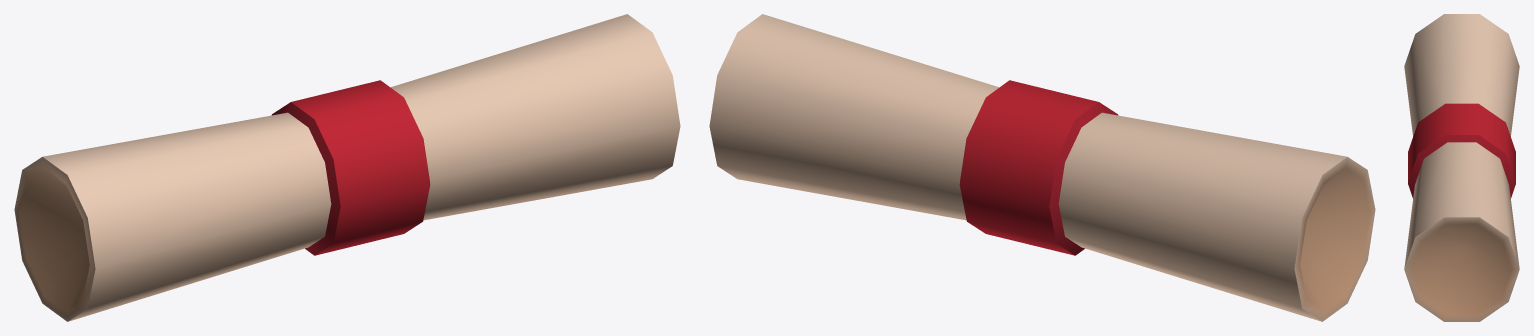
Rendered from PaperScroll2.fbx.
3 renders of one model, left to right at view 1: azimuth 30°, elevation 25°; view 2: azimuth 150°, elevation 25°; view 3: azimuth 270°, elevation 25°, orthographic. The views are drawn at different scales.
Parts seen in each view (by area): view 1: PaperScroll2; view 2: PaperScroll2; view 3: PaperScroll2.
Boxes of the visible parts, x1=… form: PaperScroll2: x1=14, y1=14, x2=680, y2=321; PaperScroll2: x1=709, y1=14, x2=1375, y2=321; PaperScroll2: x1=1404, y1=14, x2=1519, y2=321.
Bounding box in the file's own units: 25 × 6 × 6.
